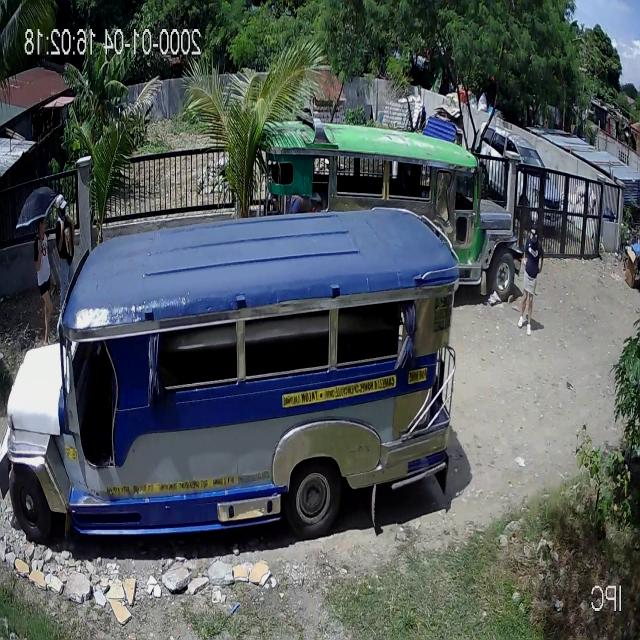standing: (53, 191, 81, 343), (31, 219, 54, 354)
walking: (514, 220, 542, 338), (304, 187, 326, 218)
